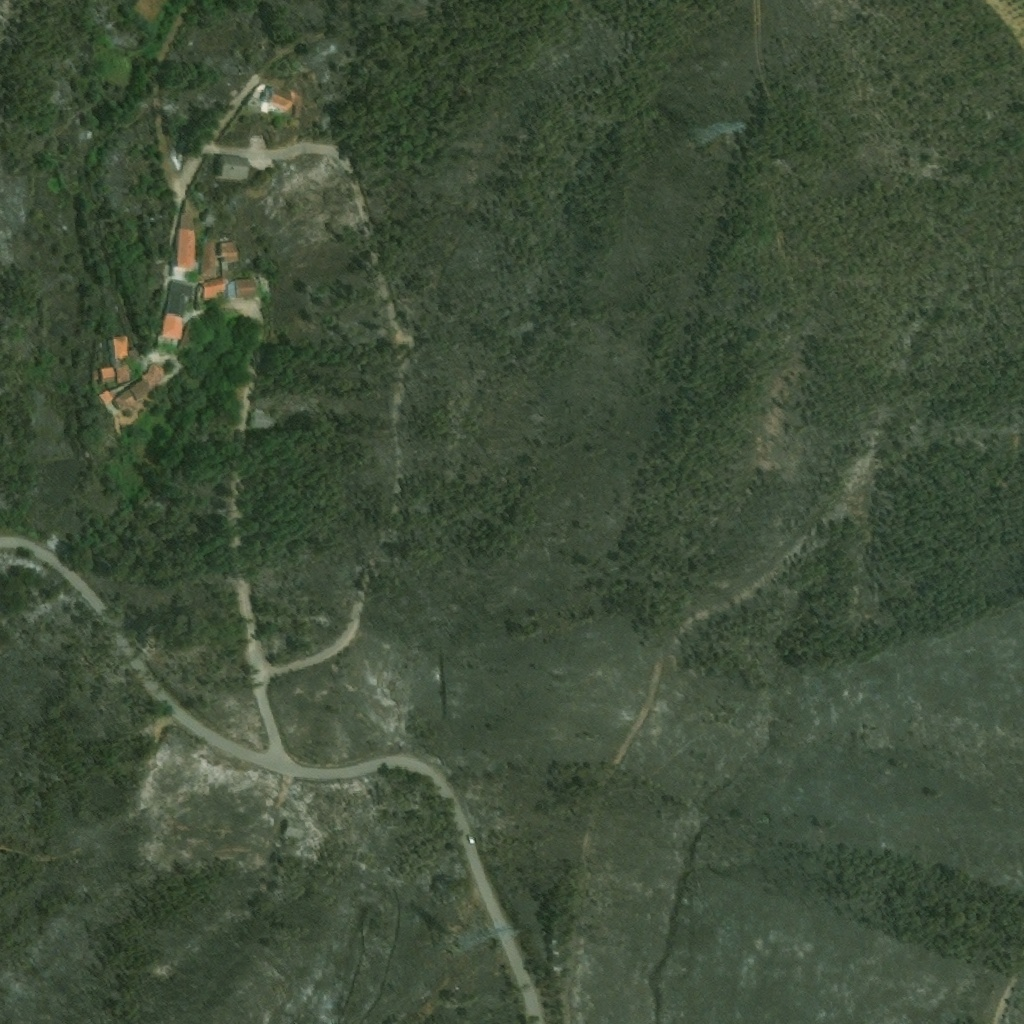0 no-damage: (163, 280, 195, 342), (171, 213, 197, 281), (129, 363, 164, 402), (201, 279, 258, 302), (107, 336, 131, 384), (217, 154, 251, 180), (201, 239, 219, 278), (281, 818, 309, 843), (112, 390, 137, 413), (268, 88, 293, 110), (248, 410, 271, 430), (221, 243, 239, 261), (98, 365, 115, 384), (204, 210, 220, 226), (98, 390, 114, 406)
